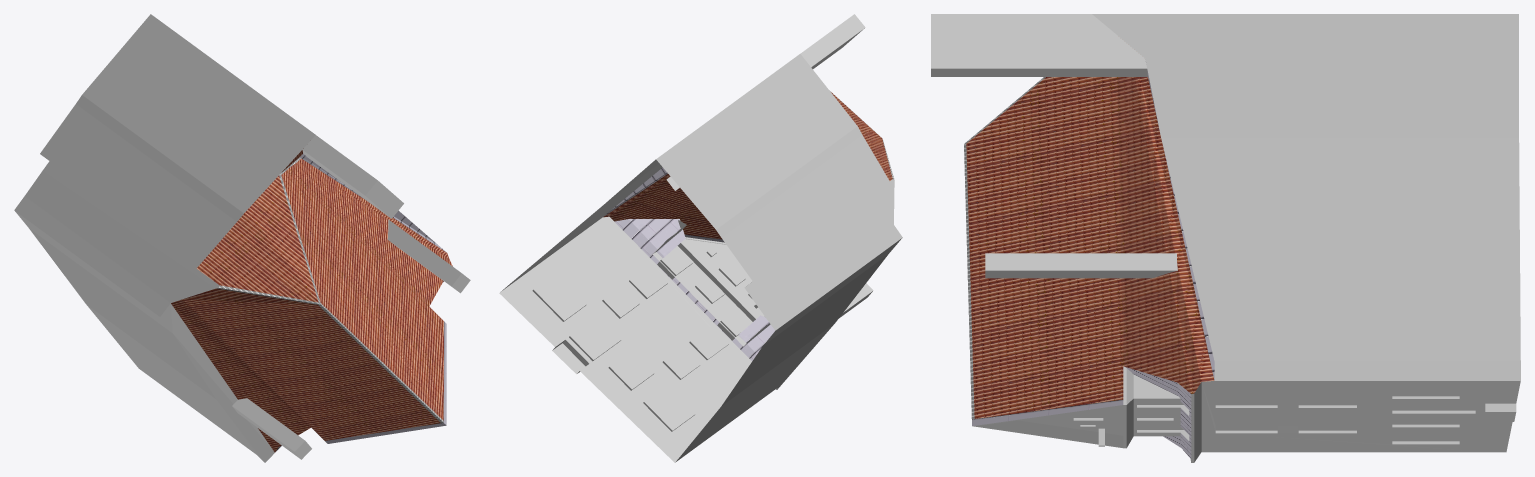
Rendered from Pikk_13.obj.
The picture shows the model from 3 angles, left to right: view 1: azimuth 30°, elevation 25°; view 2: azimuth 150°, elevation 25°; view 3: azimuth 270°, elevation 25°; orthographic projection. The views are drawn at different scales.
Visible parts, largest first — view 1: Pikk_13; view 2: Pikk_13; view 3: Pikk_13.
Part boxes in pixels (left/top/right/bottom): Pikk_13: left=14, top=14, right=470, bottom=462; Pikk_13: left=499, top=14, right=902, bottom=462; Pikk_13: left=931, top=14, right=1520, bottom=462.
Bounding box in the file's own units: 16.37 × 17.52 × 20.49.
